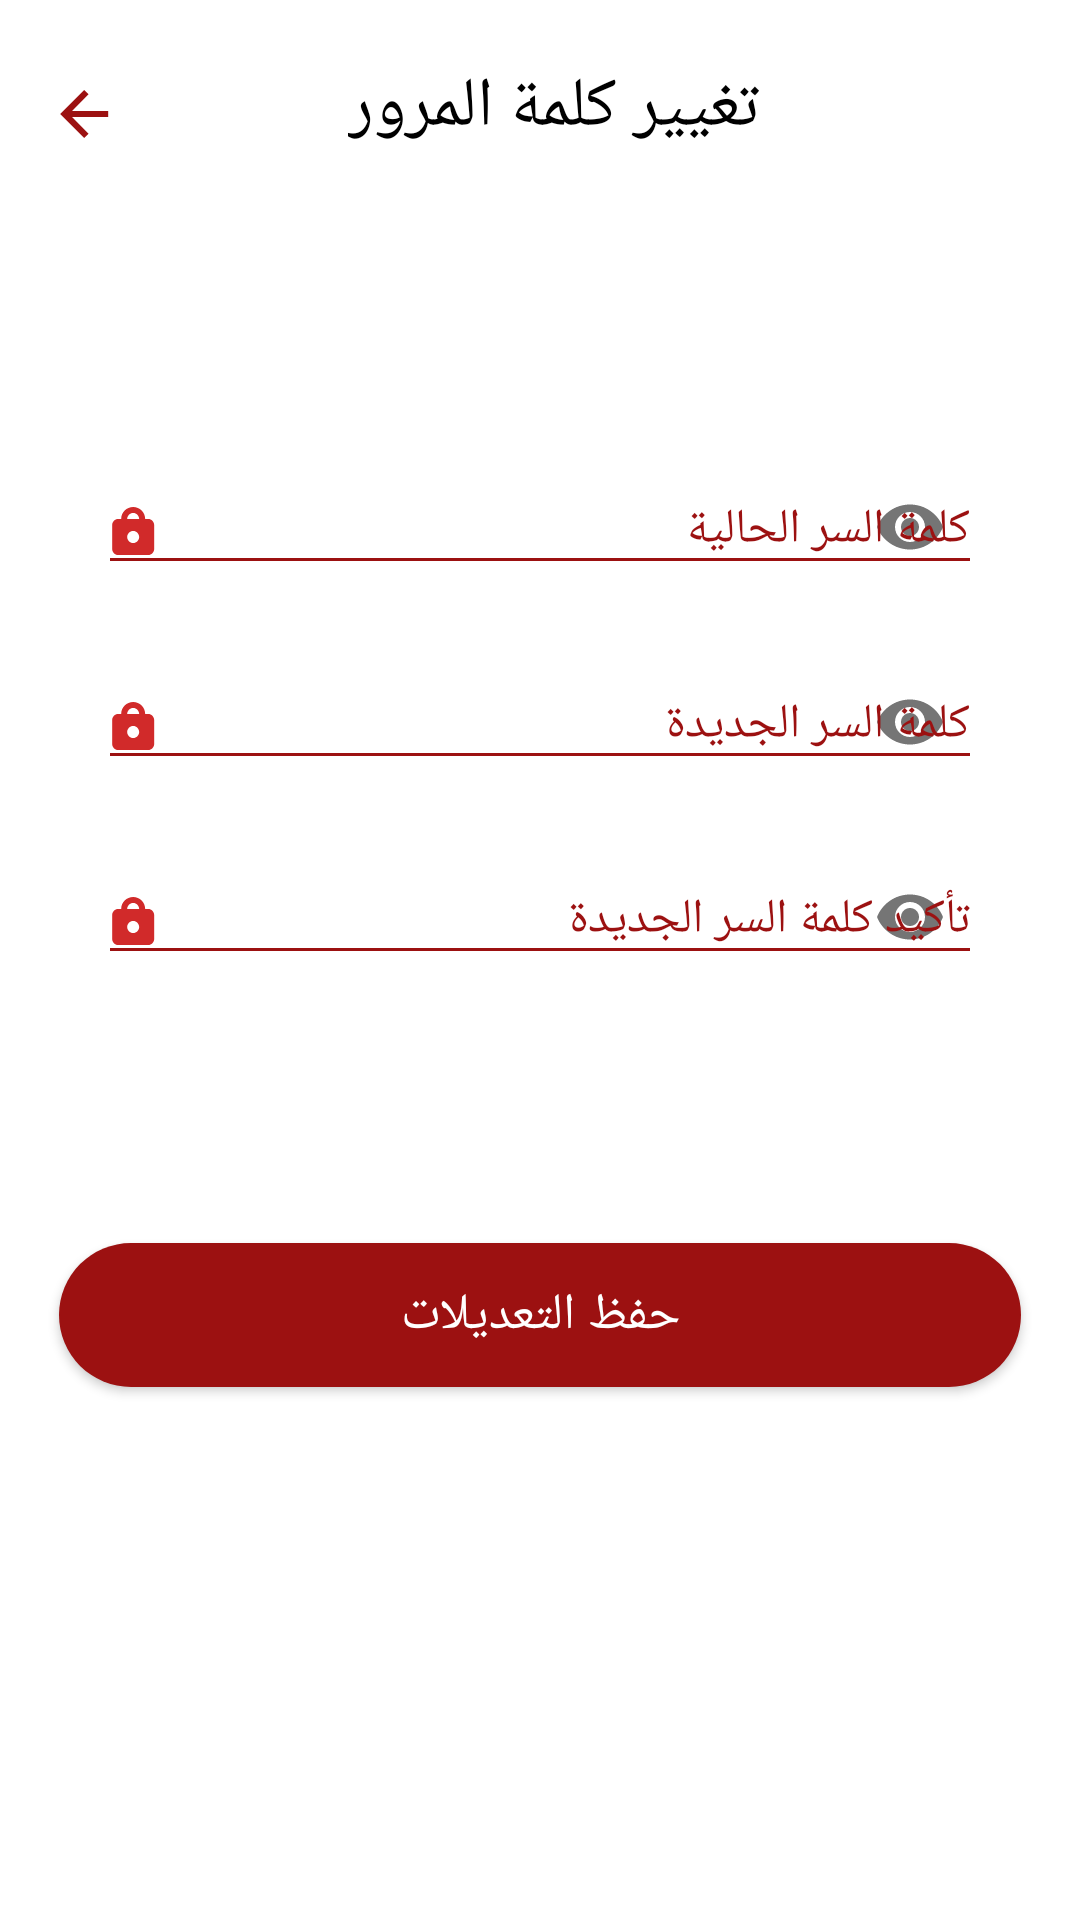

Icon bounding boxes for this 1080w x 1920h phone screenshot, format region(x1, y1, x2, y2):
back oval: region(60, 90, 109, 138)
